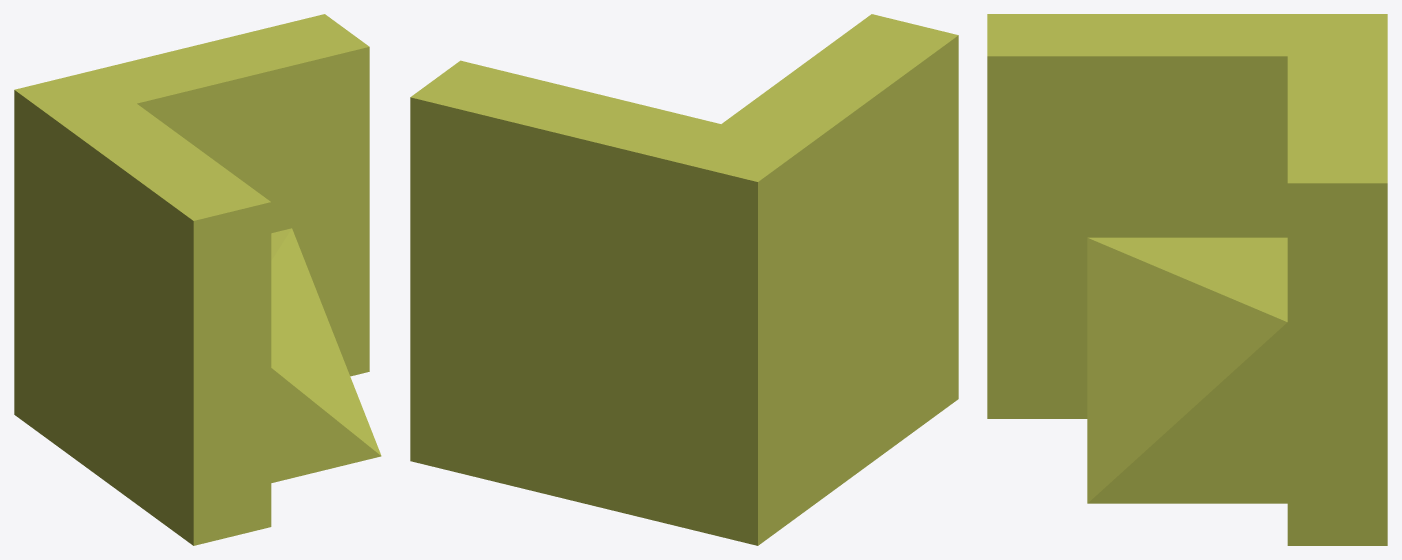
Rendered from vista_5.glb.
3 views of the same model, side by side, from view 1: azimuth 30°, elevation 25°; view 2: azimuth 150°, elevation 25°; view 3: azimuth 270°, elevation 25° (orthographic). The views are drawn at different scales.
Visible parts, largest first — view 1: Object_2; view 2: Object_2; view 3: Object_2.
Boxes of the visible parts, box(x1,y1,x2,y2) form: Object_2: box(14, 14, 381, 545); Object_2: box(410, 14, 958, 545); Object_2: box(987, 14, 1387, 545).
Bounding box in the file's own units: 40 × 40 × 40.
